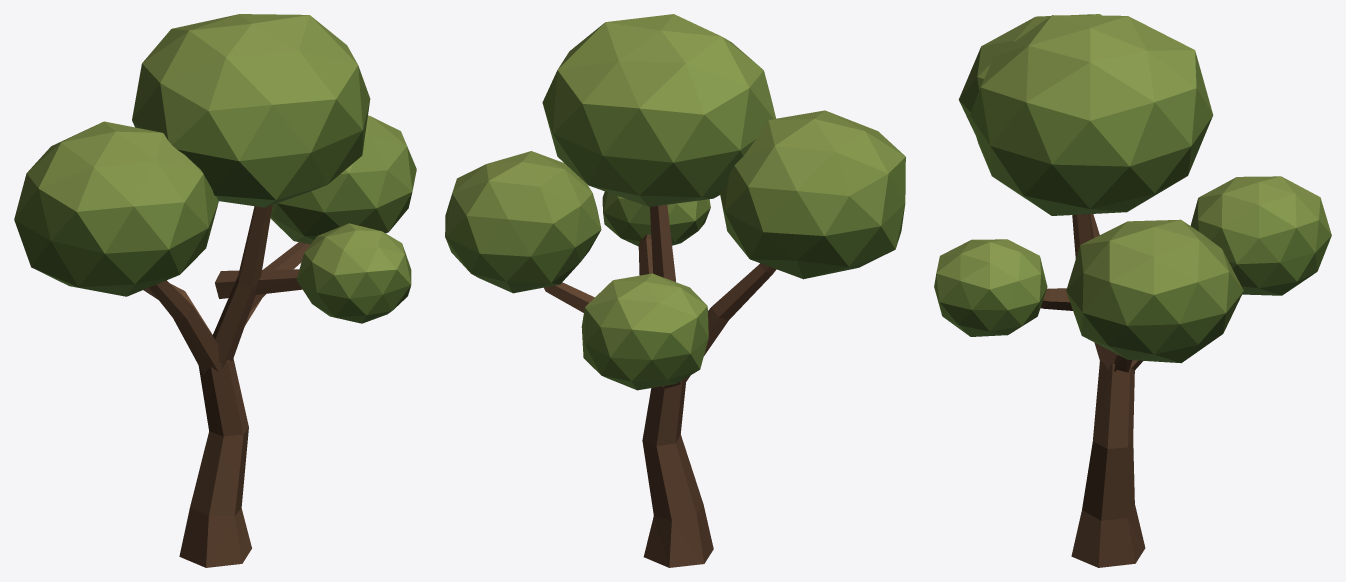
File: broadleaf.glb
3 renders of one model, left to right at view 1: azimuth 30°, elevation 25°; view 2: azimuth 150°, elevation 25°; view 3: azimuth 270°, elevation 25°, orthographic. The views are drawn at different scales.
Parts seen in each view (by area): view 1: broadleaf; view 2: broadleaf; view 3: broadleaf.
Part boxes in pixels (x1=…): broadleaf: x1=14, y1=14, x2=416, y2=567; broadleaf: x1=445, y1=14, x2=905, y2=567; broadleaf: x1=934, y1=14, x2=1331, y2=567.
Bounding box in the file's own units: 5.36 × 6.5 × 4.36.
